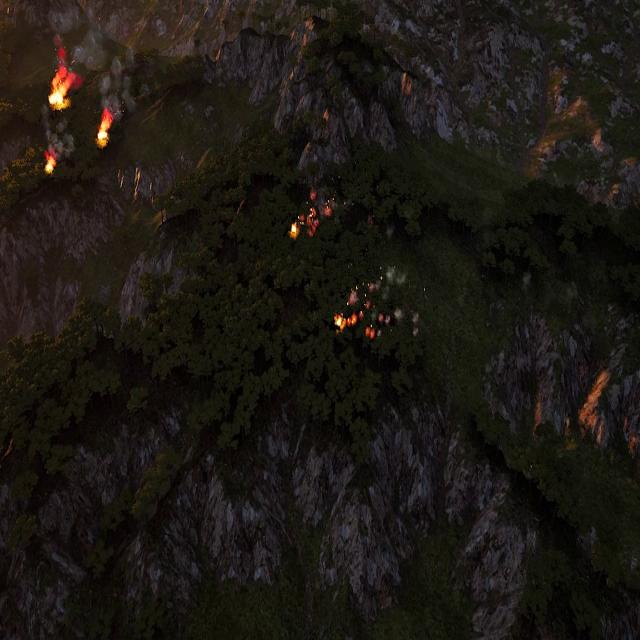fire: (48, 71, 72, 107), (97, 113, 113, 145), (336, 312, 358, 331), (44, 156, 55, 174), (290, 222, 298, 238)
smoke: (99, 47, 135, 117), (364, 302, 421, 340), (53, 27, 103, 69), (302, 190, 333, 236), (44, 118, 74, 160), (385, 266, 405, 287)
